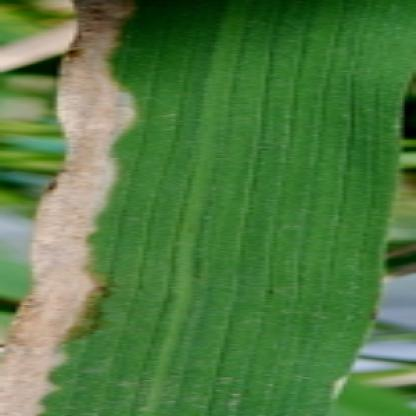Blight: (1, 1, 160, 416)
